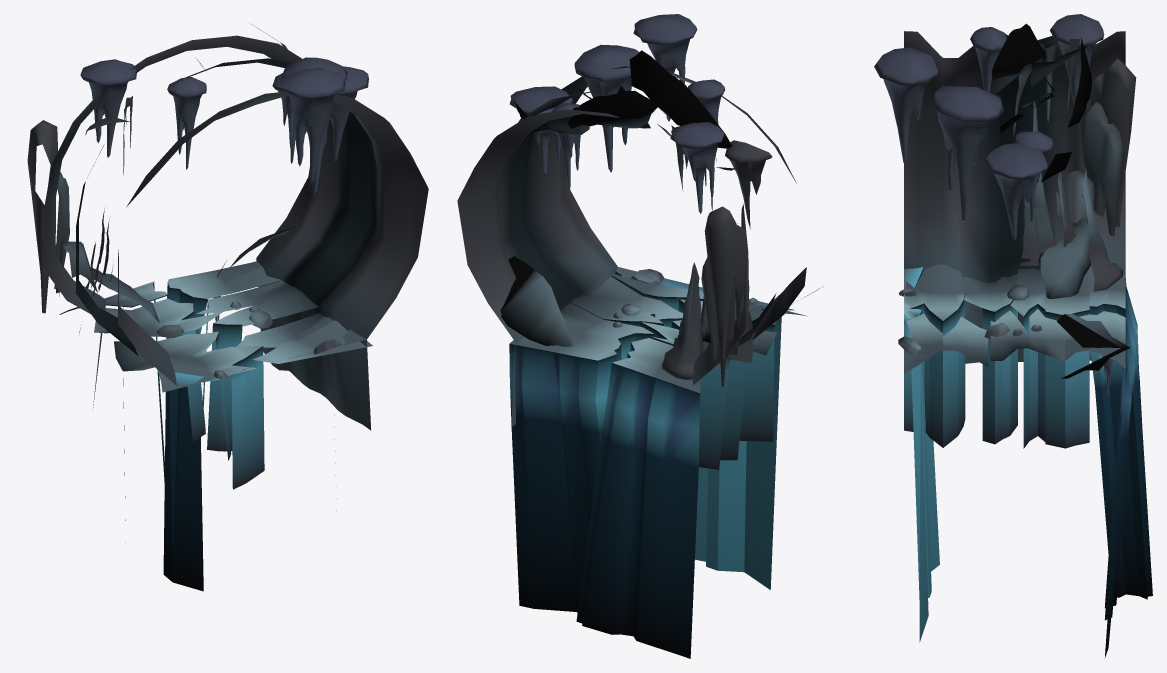
File: Arctic_Tunnels_Straight_G.glb
3 renders of one model, left to right at view 1: azimuth 30°, elevation 25°; view 2: azimuth 150°, elevation 25°; view 3: azimuth 270°, elevation 25°, orthographic. The views are drawn at different scales.
Parts seen in each view (by area): view 1: Arctic_Tunnels_Straight_G, Arctic_Tunnels_Icicle_Shadow_A02 (4), Arctic_Tunnels_Icicle_Shadow_A02 (7), Arctic_Tunnels_Icicle_Shadow_A02 (3), Arctic_Tunnels_Icicle_Shadow_A02 (5), Arctic_Tunnels_Icicle_Shadow_A02 (2), Arctic_Tunnels_Icicle_Shadow_A02; view 2: Arctic_Tunnels_Straight_G, Arctic_Tunnels_Icicle_Shadow_A02 (2), Arctic_Tunnels_Icicle_Shadow_A02 (4), Arctic_Tunnels_Icicle_Shadow_A02 (7), Arctic_Tunnels_Icicle_Shadow_A02 (5), Arctic_Tunnels_Icicle_Shadow_A02 (3), Arctic_Tunnels_Icicle_Shadow_A02; view 3: Arctic_Tunnels_Straight_G, Arctic_Tunnels_Icicle_Shadow_A02 (2), Arctic_Tunnels_Icicle_Shadow_A02 (4), Arctic_Tunnels_Icicle_Shadow_A02 (5), Arctic_Tunnels_Icicle_Shadow_A02 (7), Arctic_Tunnels_Icicle_Shadow_A02 (3), Arctic_Tunnels_Icicle_Shadow_A02.
Boxes of the visible parts, x1,y1,x2,y2 form: Arctic_Tunnels_Straight_G: (27, 24, 428, 591); Arctic_Tunnels_Icicle_Shadow_A02 (4): (279, 67, 345, 183); Arctic_Tunnels_Icicle_Shadow_A02 (7): (80, 59, 136, 157); Arctic_Tunnels_Icicle_Shadow_A02 (3): (167, 77, 206, 169); Arctic_Tunnels_Icicle_Shadow_A02 (5): (324, 66, 368, 160); Arctic_Tunnels_Icicle_Shadow_A02 (2): (280, 57, 347, 195); Arctic_Tunnels_Icicle_Shadow_A02: (272, 73, 295, 163); Arctic_Tunnels_Straight_G: (457, 50, 823, 658); Arctic_Tunnels_Icicle_Shadow_A02 (2): (574, 44, 639, 172); Arctic_Tunnels_Icicle_Shadow_A02 (4): (633, 14, 697, 121); Arctic_Tunnels_Icicle_Shadow_A02 (7): (670, 122, 724, 213); Arctic_Tunnels_Icicle_Shadow_A02 (5): (509, 86, 573, 174); Arctic_Tunnels_Icicle_Shadow_A02 (3): (688, 79, 725, 124); Arctic_Tunnels_Icicle_Shadow_A02: (551, 103, 580, 189); Arctic_Tunnels_Straight_G: (898, 23, 1152, 658); Arctic_Tunnels_Icicle_Shadow_A02 (2): (932, 86, 1004, 222); Arctic_Tunnels_Icicle_Shadow_A02 (4): (874, 47, 937, 164); Arctic_Tunnels_Icicle_Shadow_A02 (5): (983, 143, 1047, 239); Arctic_Tunnels_Icicle_Shadow_A02 (7): (1050, 14, 1104, 106); Arctic_Tunnels_Icicle_Shadow_A02 (3): (970, 27, 1006, 92); Arctic_Tunnels_Icicle_Shadow_A02: (1014, 131, 1054, 223).
Bounding box in the file's own units: 8.99 × 16.31 × 7.05.
